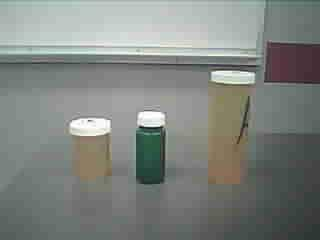Bottle A: (199, 65, 264, 193)
Bottle B: (66, 111, 117, 185)
Bottle C: (132, 106, 176, 192)
